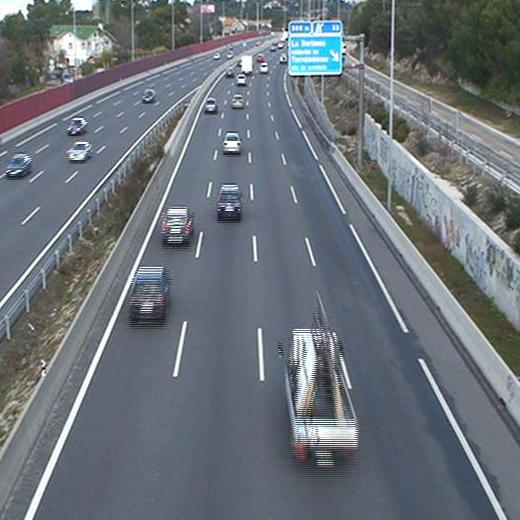car: (131, 268, 166, 316), (163, 208, 191, 236), (218, 185, 241, 216), (224, 133, 241, 154), (231, 94, 245, 109), (205, 98, 217, 114), (259, 62, 267, 73), (237, 74, 245, 85)
small-truck: (287, 329, 358, 460), (242, 55, 251, 75)
